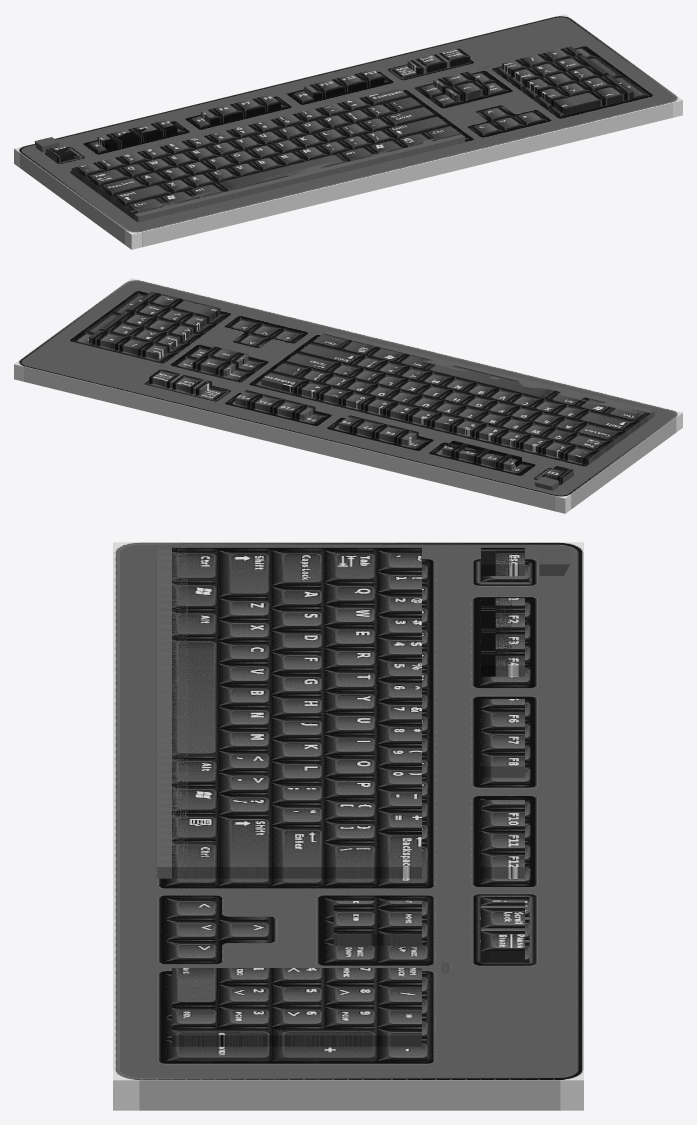
File: Keyboard.obj
3 renders of one model, top to bottom at view 1: azimuth 30°, elevation 25°; view 2: azimuth 150°, elevation 25°; view 3: azimuth 270°, elevation 25°, orthographic. The views are drawn at different scales.
Visible parts, largest first — view 1: Plane; view 2: Plane; view 3: Plane.
Part boxes in pixels (x1,y1,x2,y2): Plane: (14, 14, 682, 249); Plane: (14, 278, 682, 513); Plane: (113, 542, 583, 1110).
Bounding box in the file's own units: 4.95 × 0.1792 × 1.83.
